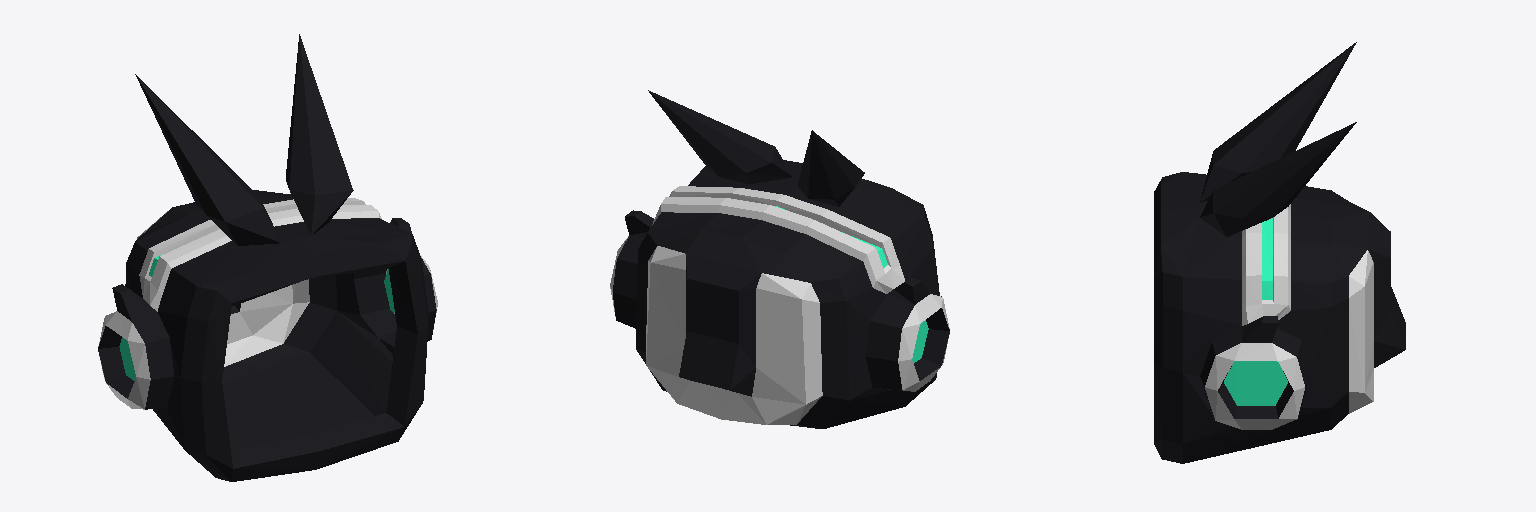
3 renders of one model, left to right at view 1: azimuth 30°, elevation 25°; view 2: azimuth 150°, elevation 25°; view 3: azimuth 270°, elevation 25°, orthographic.
Parts seen in each view (by area): view 1: Body; view 2: Body; view 3: Body.
Boxes of the visible parts, x1,y1,x2,y2 form: Body: [98, 34, 437, 481]; Body: [610, 90, 949, 428]; Body: [1154, 42, 1405, 463].
Size of the model in its own units: 2.95 by 3.25 by 2.13.
1 materials, 1 textured.